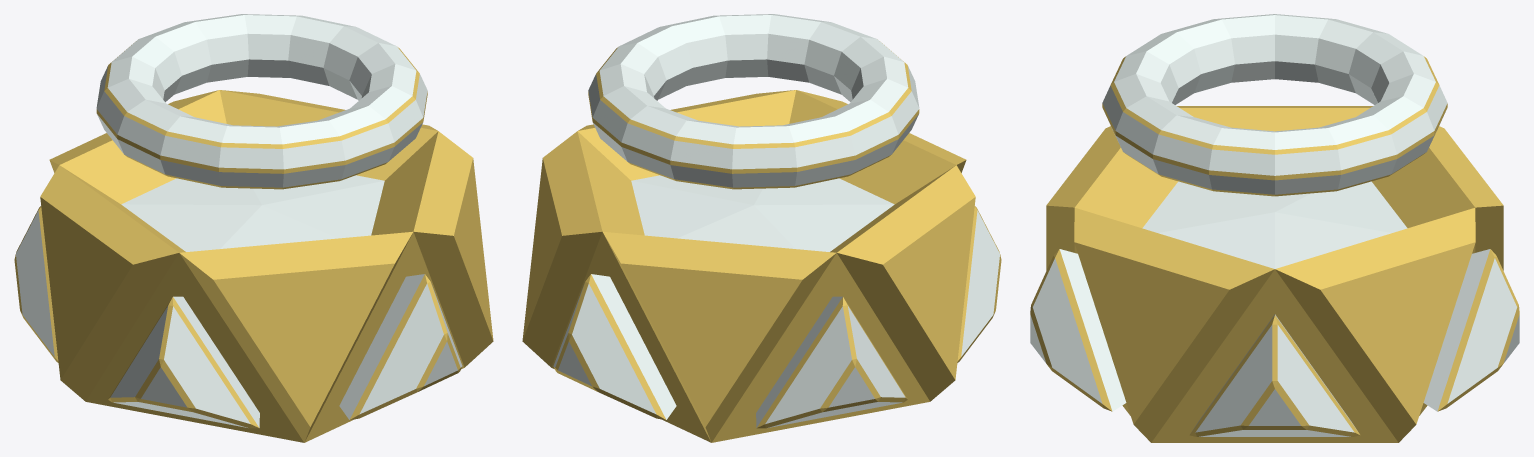
File: CelestiumEssence.fbx
3 views of the same model, side by side, from view 1: azimuth 30°, elevation 25°; view 2: azimuth 150°, elevation 25°; view 3: azimuth 270°, elevation 25° (orthographic). The views are drawn at different scales.
Parts seen in each view (by area): view 1: Icosphere; view 2: Icosphere; view 3: Icosphere.
Boxes of the visible parts, x1,y1,x2,y2 form: Icosphere: (14, 14, 493, 442); Icosphere: (522, 14, 1001, 442); Icosphere: (1030, 14, 1519, 442).
Bounding box in the file's own units: 211 × 139 × 208.
